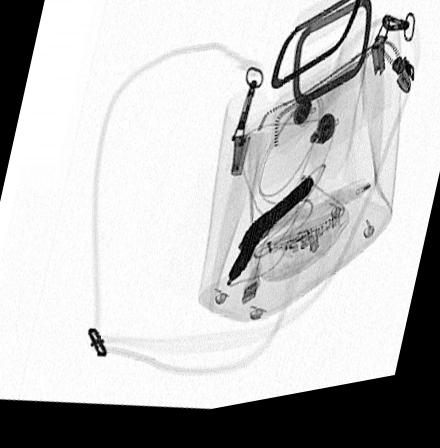Gun: (227, 185, 314, 290)
